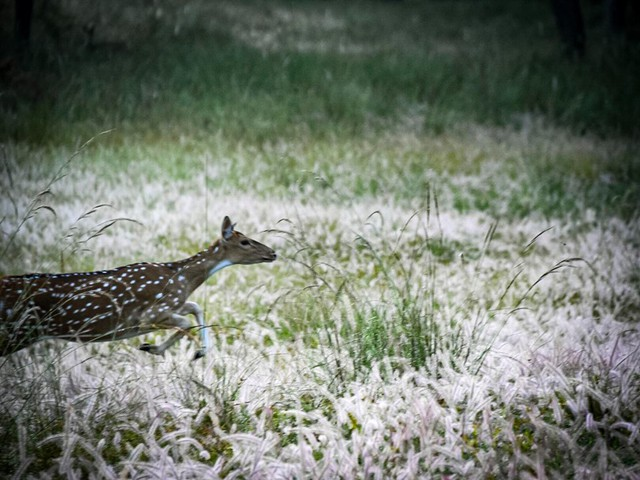deer: (5, 211, 283, 367)
